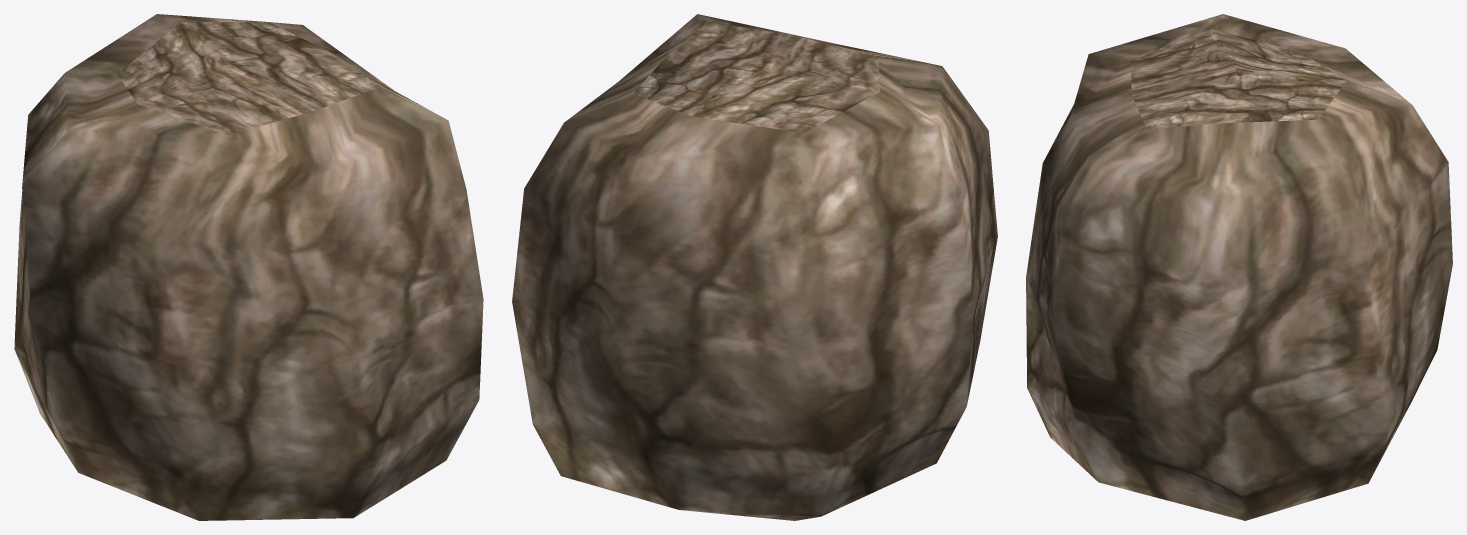
Rendered from INST_EKH_ROCKA.fbx.
3 renders of one model, left to right at view 1: azimuth 30°, elevation 25°; view 2: azimuth 150°, elevation 25°; view 3: azimuth 270°, elevation 25°, orthographic. The views are drawn at different scales.
Visible parts, largest first — view 1: INST_EKH_ROCKA; view 2: INST_EKH_ROCKA; view 3: INST_EKH_ROCKA.
Part boxes in pixels (bbox=[...]): INST_EKH_ROCKA: bbox=[14, 14, 483, 520]; INST_EKH_ROCKA: bbox=[512, 14, 997, 520]; INST_EKH_ROCKA: bbox=[1026, 14, 1452, 520].
Size of the model in its own units: 20016 by 19550 by 20000.
Materials: 1 (1 with a texture image).
